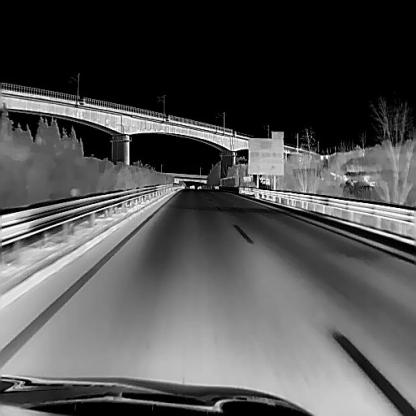car: (188, 182, 194, 188)
